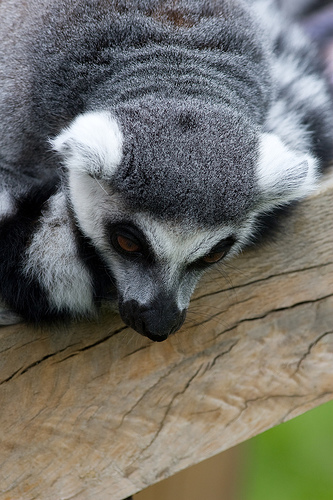cat: (0, 1, 331, 346)
